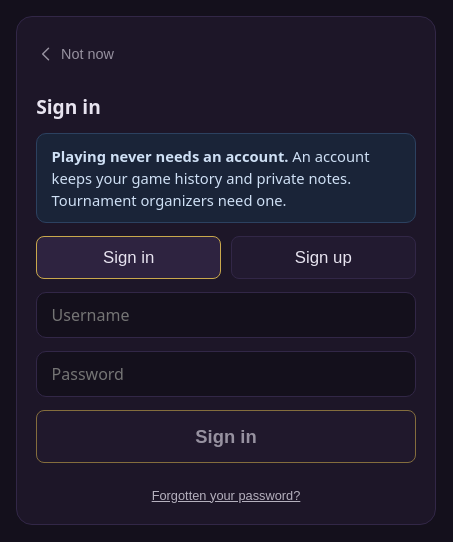
it: forgotten password › is not offered while creating an account
This screenshot has width=453, height=542.
Click the button "Sign up": (323, 258) 231,236 -> 416,279
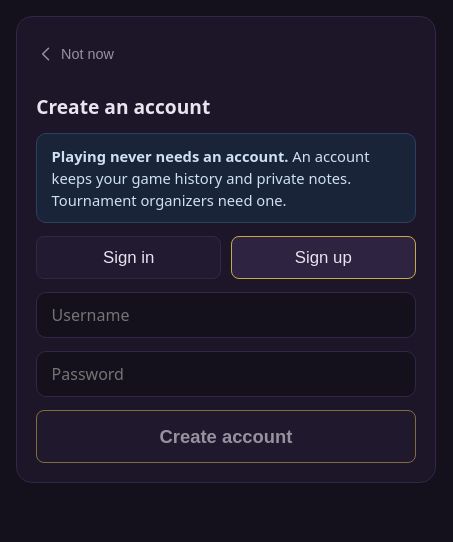
Expected: the button "Forgotten your password" is gone
